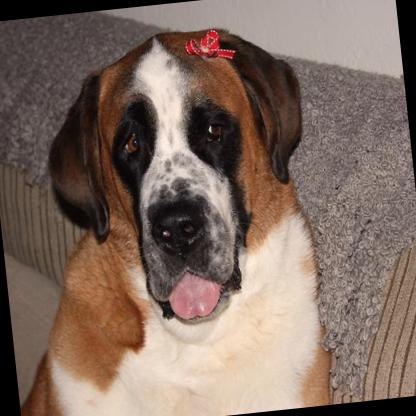Saint_Bernard: (0, 16, 337, 416)
